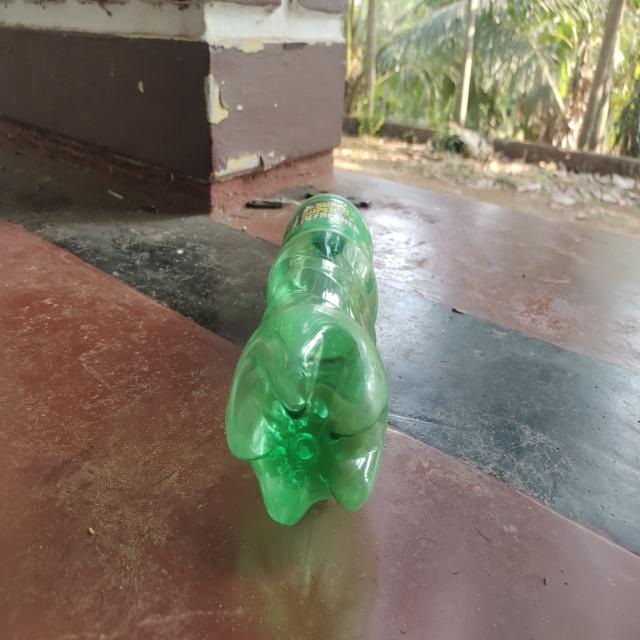plastic: (223, 190, 391, 530)
